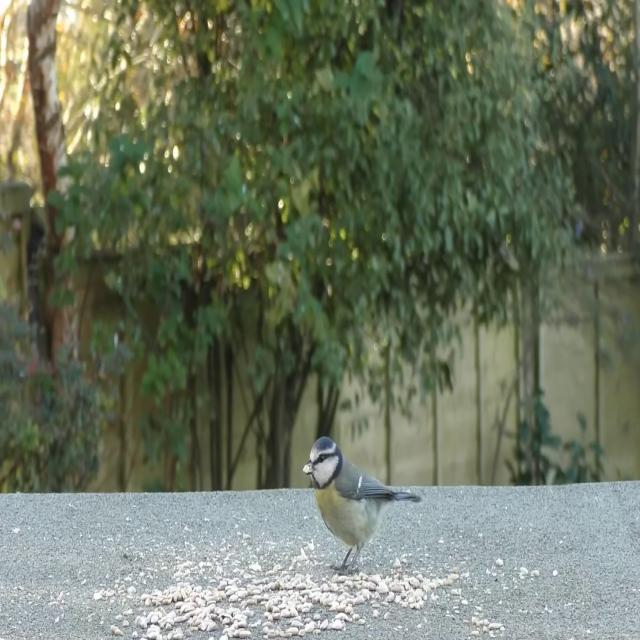beak: (303, 458, 315, 480)
bird: (301, 434, 425, 576)
